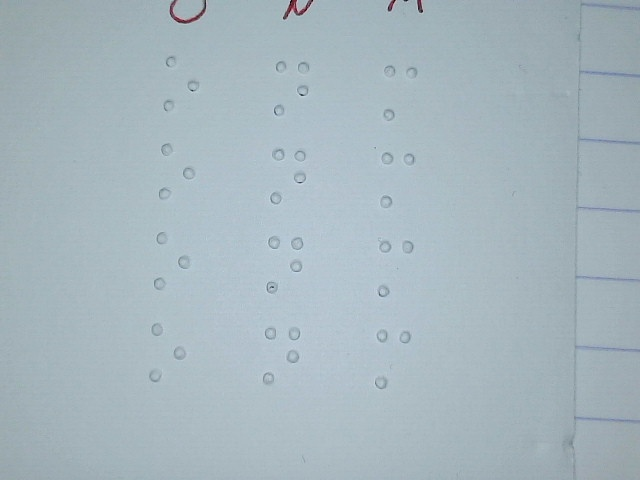M: (377, 238, 415, 298), (374, 328, 412, 388), (382, 63, 419, 122), (379, 150, 416, 209)
N: (269, 146, 308, 205), (266, 235, 305, 294), (262, 325, 301, 384), (273, 58, 310, 117)
O: (149, 322, 187, 382), (158, 142, 197, 200), (152, 230, 191, 288), (162, 54, 199, 113)
